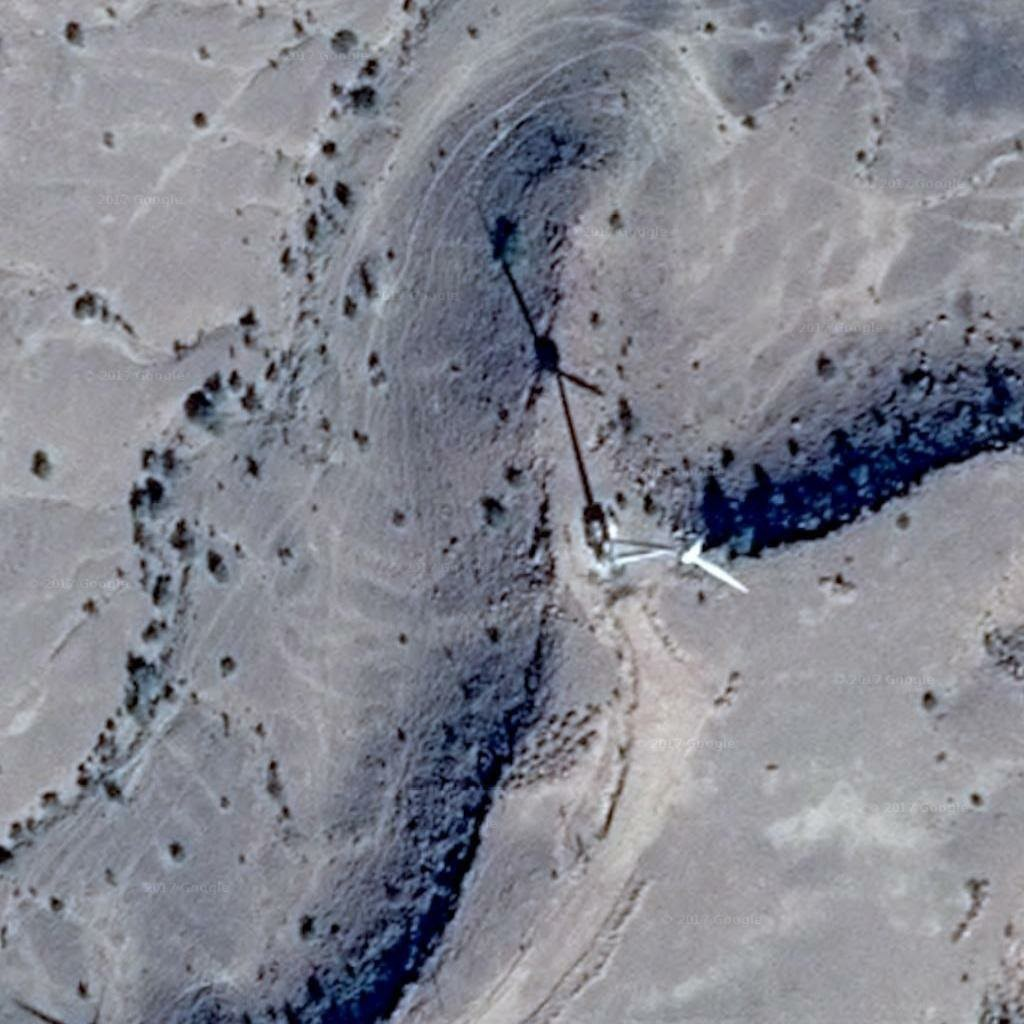Windmill: (471, 229, 620, 549)
